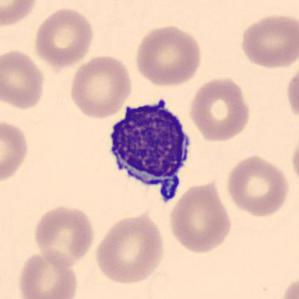Lymphocyte: (100, 90, 197, 206)
RBC: (92, 210, 167, 286), (166, 177, 234, 256), (133, 22, 204, 87), (67, 52, 135, 119), (223, 152, 292, 218), (186, 75, 252, 142), (32, 202, 96, 268), (32, 5, 96, 68), (237, 12, 298, 70), (15, 249, 80, 299), (0, 48, 47, 111), (0, 118, 32, 185), (0, 0, 39, 28), (284, 63, 299, 124), (288, 130, 299, 189), (278, 273, 298, 299)
